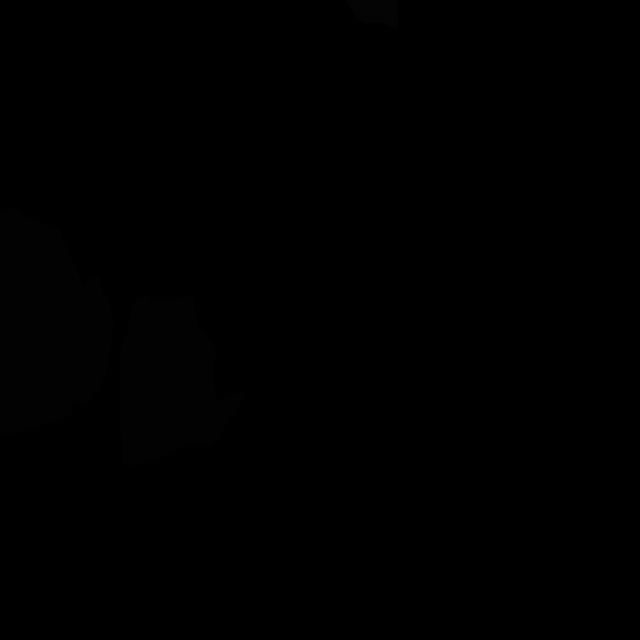cardboard: (0, 206, 114, 407), (119, 295, 247, 466), (0, 266, 74, 434)
soft_plastic: (346, 0, 398, 29)
